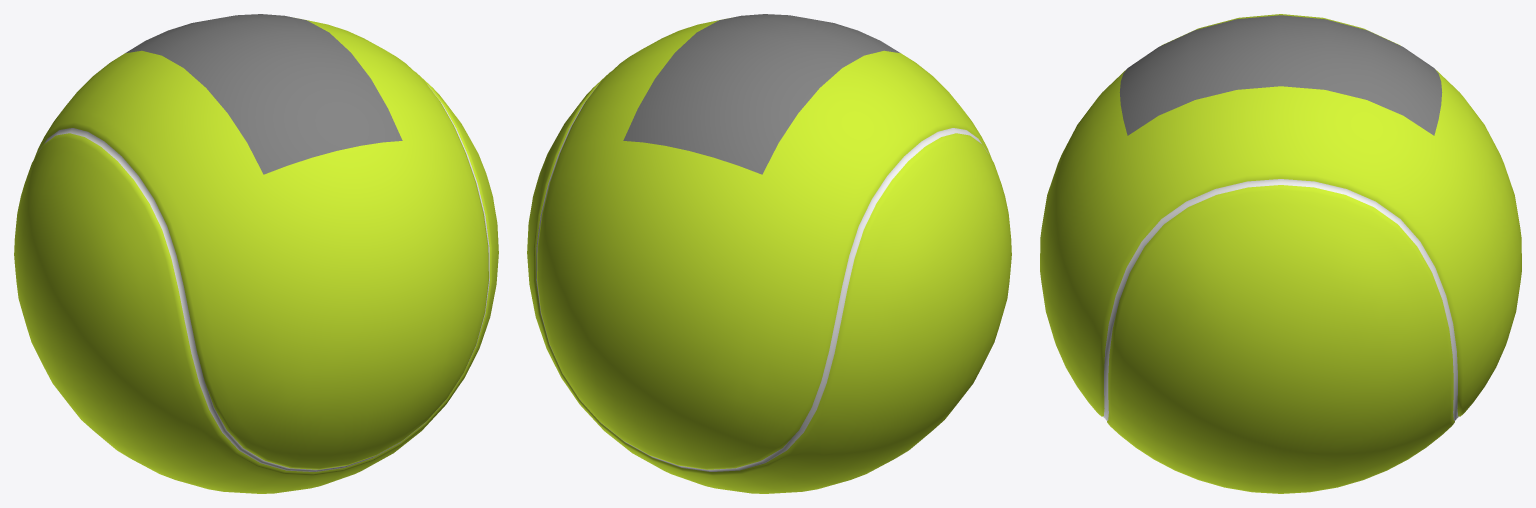
The model's file is tennisball.FBX.
3 renders of one model, left to right at view 1: azimuth 30°, elevation 25°; view 2: azimuth 150°, elevation 25°; view 3: azimuth 270°, elevation 25°, orthographic.
Parts seen in each view (by area): view 1: Box01; view 2: Box01; view 3: Box01.
Boxes of the visible parts, box(x1,y1,x2,y2) form: Box01: box(14, 14, 498, 493); Box01: box(527, 14, 1011, 493); Box01: box(1040, 14, 1521, 493).
Bounding box in the file's own units: 56.38 × 55.96 × 56.38.
